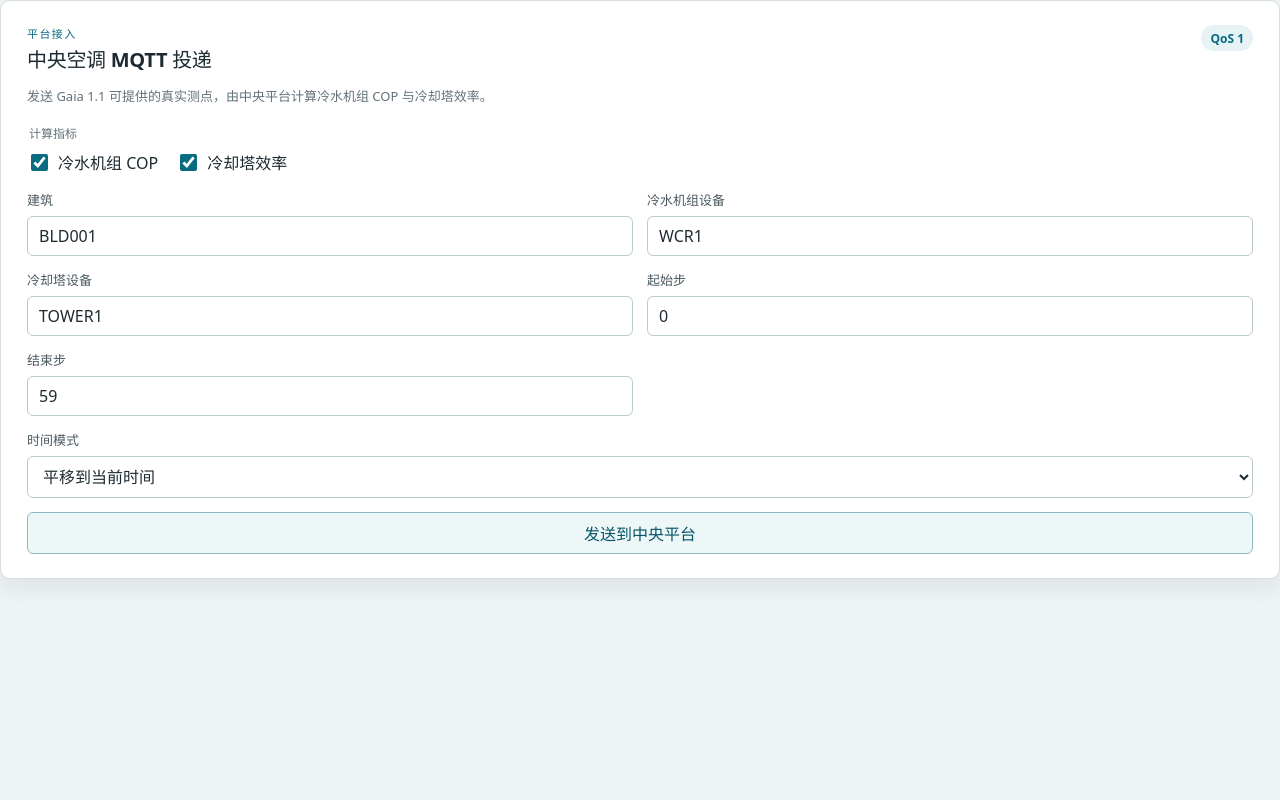
Test: MqttDeliveryPanel › requires at least one target
Click the checkbox labelled "冷水机组 COP": (40, 162) x1=31 y1=154 x2=48 y2=171
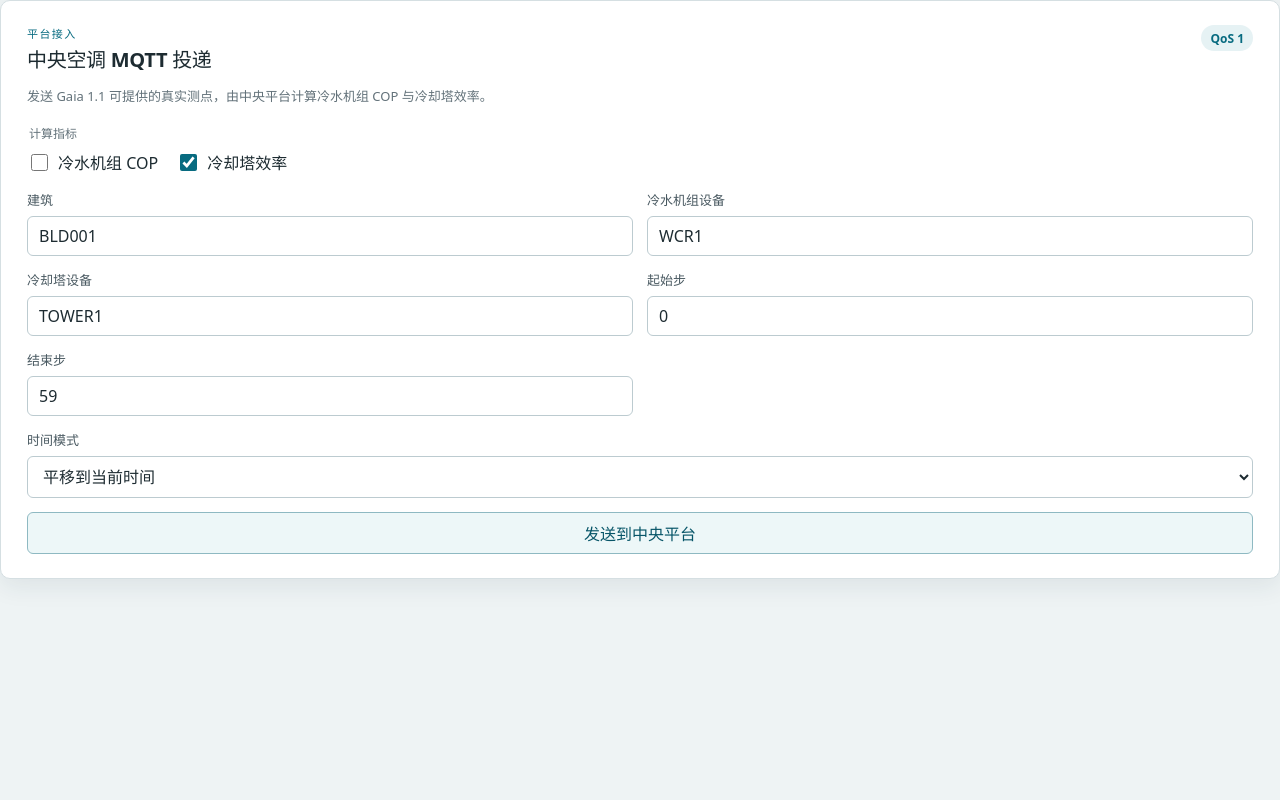
Click the checkbox labelled "冷却塔效率": (189, 162) x1=180 y1=154 x2=197 y2=171
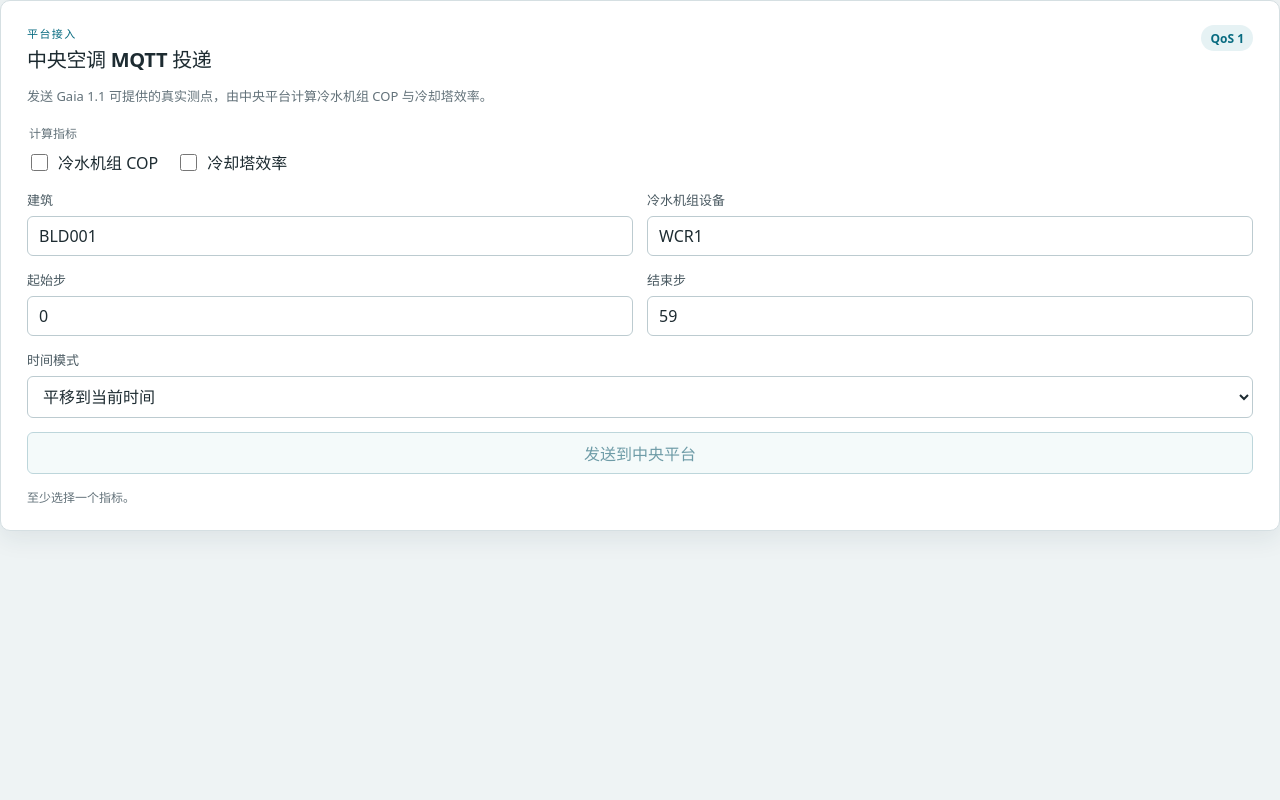
Expected: the button "发送到中央平台" is disabled, x1=27 y1=432 x2=1253 y2=474
Expected: the text "至少选择一个指标" is shown, x1=27 y1=489 x2=135 y2=506
